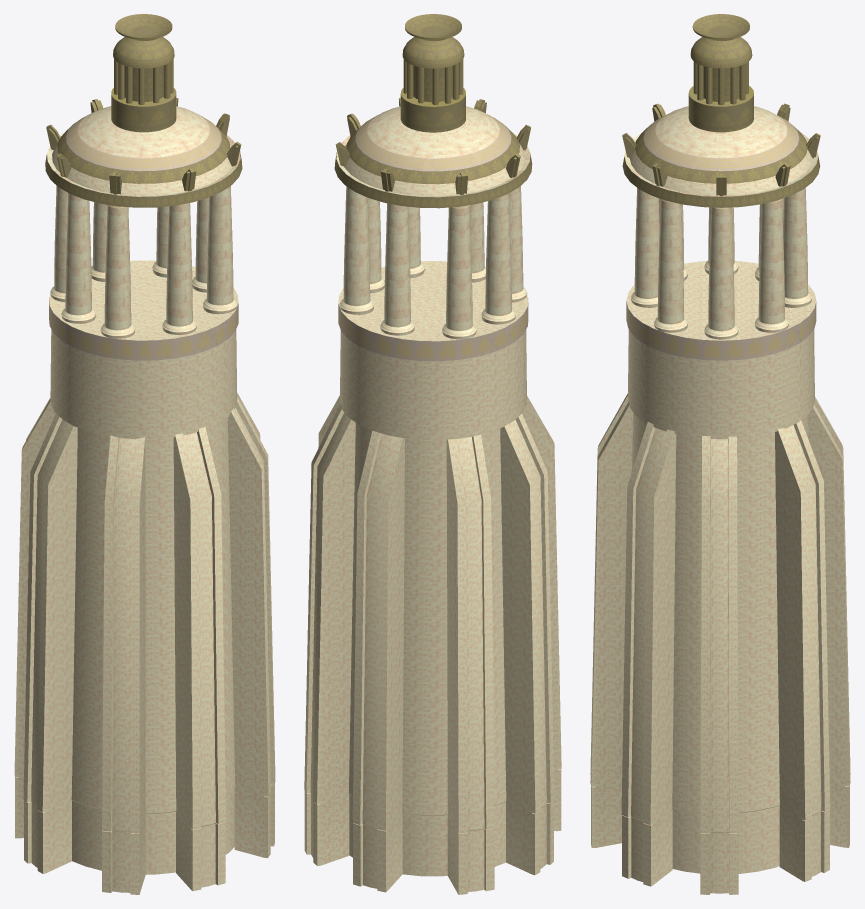
File: SM_fire_tower.glb
3 renders of one model, left to right at view 1: azimuth 30°, elevation 25°; view 2: azimuth 150°, elevation 25°; view 3: azimuth 270°, elevation 25°, orthographic.
Visible parts, largest first — view 1: SM_fire_tower; view 2: SM_fire_tower; view 3: SM_fire_tower.
Part boxes in pixels (<box>): SM_fire_tower: <box>14,14,275,894</box>; SM_fire_tower: <box>304,14,561,894</box>; SM_fire_tower: <box>590,14,850,894</box>.
Bounding box in the file's own units: 59.88 × 207 × 59.88.
Materials: 3 (3 with a texture image).
